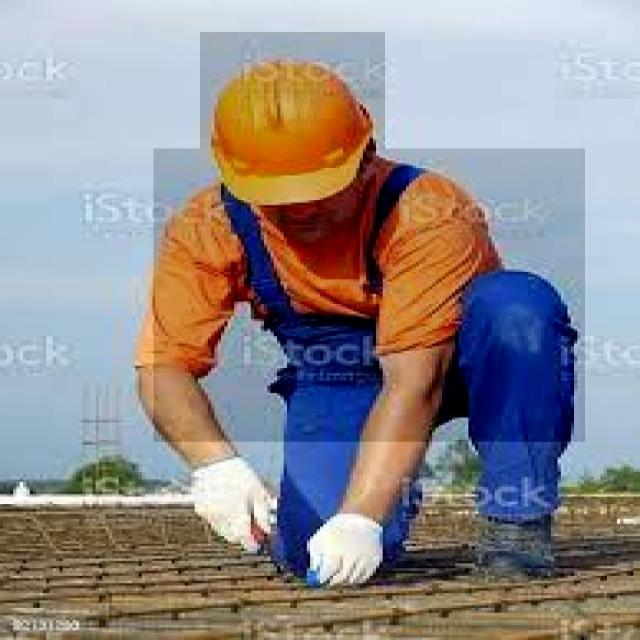Helmet: (153, 148, 585, 442), (200, 32, 385, 223)
